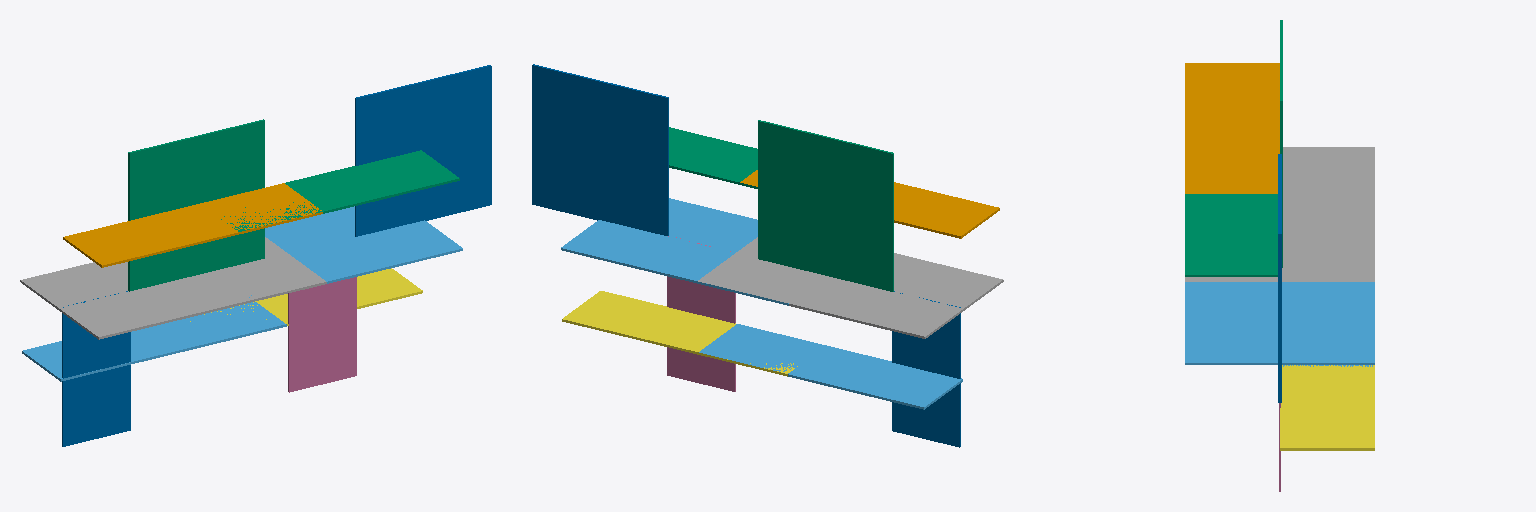
The robot description file, URDF, robot "box":
<?xml version="1.0"?>
<robot name="box">

  <link name="base_link">
    <inertial>
      <origin xyz="0 0 0" rpy="0 0 0"/>
      <mass value="0.001"/>
      <inertia ixx="0.0001" ixy="0.0" ixz="0.0" iyy="0.0001" iyz="0.0" izz="0.0001"/>
    </inertial>
  </link>

  <link name="link_right">
    <visual>   <geometry> <mesh filename="box_base.dae"/> </geometry> </visual> 
    <collision><geometry> <mesh filename="box_base.dae"/> </geometry> </collision>
    <inertial> 
      <origin xyz="0 0 0" rpy="0 0 0"/>
      <mass value="0.01"/> 
      <inertia ixx="0.1" ixy="0" ixz="0" iyy="0.1" iyz="0" izz="0.1"/> 
    </inertial>
  </link>

  <joint name="joint_base_to_right" type="fixed">
    <parent link="base_link"/>
    <child link="link_right"/>
    <origin xyz="0 0 0" rpy="0 0 0"/>
  </joint>

  <link name="link_right_up">
    <visual>   <geometry> <mesh filename="box_right_up.dae"/> </geometry> </visual>
    <collision><geometry> <mesh filename="box_right_up.dae"/> </geometry> </collision>
    <inertial> <mass value="0.01"/> <inertia ixx="0.01" ixy="0" ixz="0" iyy="0.01" iyz="0" izz="0.01"/> </inertial>
  </link>

  <joint name="joint_right_to_up" type="revolute">
    <parent link="link_right"/>
    <child link="link_right_up"/>
    <origin xyz="0 0 0.15" rpy="0 0 0"/> 
    <axis xyz="1 0 0"/> <limit lower="-6.28" upper="6.28" effort="10.0" velocity="1.0"/>
  </joint>

  <link name="link_right_down">
    <visual>   <geometry> <mesh filename="box_right_down.dae"/> </geometry> </visual>
    <collision><geometry> <mesh filename="box_right_down.dae"/> </geometry> </collision>
    <inertial> <mass value="0.01"/> <inertia ixx="0.01" ixy="0" ixz="0" iyy="0.01" iyz="0" izz="0.01"/> </inertial>
  </link>

  <joint name="joint_right_to_down" type="revolute">
    <parent link="link_right"/>
    <child link="link_right_down"/>
    <origin xyz="0 0 -0.15" rpy="0 0 0"/> 
    <axis xyz="1 0 0"/> <limit lower="-6.28" upper="6.28" effort="10.0" velocity="1.0"/>
  </joint>

  <link name="link_front">
    <visual>   <geometry> <mesh filename="box_front.dae"/> </geometry> </visual>
    <collision><geometry> <mesh filename="box_front.dae"/> </geometry> </collision>
    <inertial> <mass value="0.01"/> <inertia ixx="0.01" ixy="0" ixz="0" iyy="0.01" iyz="0" izz="0.01"/> </inertial>
  </link>

  <joint name="joint_right_to_front" type="revolute">
    <parent link="link_right"/>
    <child link="link_front"/>
    <origin xyz="0.25 -0.0001 0" rpy="0 0 1.5708"/> 
    <axis xyz="0 0 1"/> <limit lower="-6.28" upper="6.28" effort="10.0" velocity="1.0"/> 
  </joint>

  <link name="link_front_up">
    <visual>   <geometry> <mesh filename="box_front_up.dae"/> </geometry> </visual>
    <collision><geometry> <mesh filename="box_front_up.dae"/> </geometry> </collision>
    <inertial> <mass value="0.01"/> <inertia ixx="0.01" ixy="0" ixz="0" iyy="0.01" iyz="0" izz="0.01"/> </inertial>
  </link>

  <joint name="joint_front_to_up" type="revolute">
    <parent link="link_front"/>
    <child link="link_front_up"/>
    <origin xyz="0 0.1475 0.145" rpy="0 0 0"/>
    <axis xyz="0 1 0"/> <limit lower="-6.28" upper="6.28" effort="10.0" velocity="1.0"/>
  </joint>

  <link name="link_front_down">
    <visual>   <geometry> <mesh filename="box_front_down.dae"/> </geometry> </visual>
    <collision><geometry> <mesh filename="box_front_down.dae"/> </geometry> </collision>
    <inertial> <mass value="0.01"/> <inertia ixx="0.01" ixy="0" ixz="0" iyy="0.01" iyz="0" izz="0.01"/> </inertial>
  </link>

  <joint name="joint_front_to_down" type="revolute">
    <parent link="link_front"/>
    <child link="link_front_down"/>
    <origin xyz="0 0.1475 -0.145" rpy="0 0 0"/>
    <axis xyz="0 1 0"/> <limit lower="-6.28" upper="6.28" effort="10.0" velocity="1.0"/>
  </joint>


  <link name="link_left">
    <visual>   <geometry> <mesh filename="box_left.dae"/> </geometry> </visual>
    <collision><geometry> <mesh filename="box_left.dae"/> </geometry> </collision>
    <inertial> <mass value="0.01"/> <inertia ixx="0.01" ixy="0" ixz="0" iyy="0.01" iyz="0" izz="0.01"/> </inertial>
  </link>

  <joint name="joint_front_to_left" type="revolute">
    <parent link="link_front"/>
    <child link="link_left"/>
    <origin xyz="0 0.3 0" rpy="0 0 -1.5708"/> 
    <axis xyz="0 0 1"/> <limit lower="-6.28" upper="6.28" effort="10.0" velocity="1.0"/>
  </joint>

  <link name="link_left_up">
    <visual>   <geometry> <mesh filename="box_left_up.dae"/> </geometry> </visual>
    <collision><geometry> <mesh filename="box_left_up.dae"/> </geometry> </collision>
    <inertial> <mass value="0.01"/> <inertia ixx="0.01" ixy="0" ixz="0" iyy="0.01" iyz="0" izz="0.01"/> </inertial>
  </link>

  <joint name="joint_left_to_up" type="revolute">
    <parent link="link_left"/>
    <child link="link_left_up"/>
    <origin xyz="-0.2525 0 0.15" rpy="0 0 0"/>
    <axis xyz="1 0 0"/> <limit lower="-6.28" upper="6.28" effort="10.0" velocity="1.0"/>
  </joint>

  <link name="link_left_down">
    <visual>   <geometry> <mesh filename="box_left_down.dae"/> </geometry> </visual>
    <collision><geometry> <mesh filename="box_left_down.dae"/> </geometry> </collision>
    <inertial> <mass value="0.01"/> <inertia ixx="0.01" ixy="0" ixz="0" iyy="0.01" iyz="0" izz="0.01"/> </inertial>
  </link>

  <joint name="joint_left_to_down" type="revolute">
    <parent link="link_left"/>
    <child link="link_left_down"/>
    <origin xyz="-0.2525 0 -0.15" rpy="0 0 0"/>
    <axis xyz="1 0 0"/> <limit lower="-6.28" upper="6.28" effort="10.0" velocity="1.0"/>
  </joint>


  <link name="link_back">
    <visual>   <geometry> <mesh filename="box_back.dae"/> </geometry> </visual>
    <collision><geometry> <mesh filename="box_back.dae"/> </geometry> </collision>
    <inertial> <mass value="0.01"/> <inertia ixx="0.01" ixy="0" ixz="0" iyy="0.01" iyz="0" izz="0.01"/> </inertial>
  </link>

  <joint name="joint_right_to_back" type="revolute">
    <parent link="link_right"/>
    <child link="link_back"/>
    <origin xyz="-0.25 0.0025 0" rpy="0 0 1.5708"/> 
    <axis xyz="0 0 1"/> <limit lower="-6.28" upper="6.28" effort="10.0" velocity="1.0"/>
  </joint>

  <link name="link_back_up">
    <visual>   <geometry> <mesh filename="box_back_up.dae"/> </geometry> </visual>
    <collision><geometry> <mesh filename="box_back_up.dae"/> </geometry> </collision>
    <inertial> <mass value="0.01"/> <inertia ixx="0.01" ixy="0" ixz="0" iyy="0.01" iyz="0" izz="0.01"/> </inertial>
  </link>

  <joint name="joint_back_to_up" type="revolute">
    <parent link="link_back"/>
    <child link="link_back_up"/>
    <origin xyz="0 0.1475 0.145" rpy="0 0 0"/>
    <axis xyz="0 1 0"/> <limit lower="-6.28" upper="6.28" effort="10.0" velocity="1.0"/>
  </joint>

  <link name="link_back_down">
    <visual>   <geometry> <mesh filename="box_back_down.dae"/> </geometry> </visual>
    <collision><geometry> <mesh filename="box_back_down.dae"/> </geometry> </collision>
    <inertial> <mass value="0.01"/> <inertia ixx="0.01" ixy="0" ixz="0" iyy="0.01" iyz="0" izz="0.01"/> </inertial>
  </link>

  <joint name="joint_back_to_down" type="revolute">
    <parent link="link_back"/>
    <child link="link_back_down"/>
    <origin xyz="0 0.1475 -0.145" rpy="0 0 0"/>
    <axis xyz="0 1 0"/> <limit lower="-6.28" upper="6.28" effort="10.0" velocity="1.0"/>
  </joint>

</robot>

--- Render facts (derived) ---
Views: 3 orthographic renders of the robot side by side, from view 1: azimuth 30°, elevation 25°; view 2: azimuth 150°, elevation 25°; view 3: azimuth 270°, elevation 25°.
Robot: box — 13 links, 12 joints (11 revolute, 1 fixed); root link base_link; default pose: every joint at zero.
Links seen in each view (by area): view 1: link_front, link_back, link_left, link_left_up, link_right, link_back_down, link_front_down, link_right_up, link_left_down, link_right_down; view 2: link_front, link_back, link_left, link_right, link_left_down, link_right_down, link_back_down, link_front_down, link_left_up, link_right_up; view 3: link_right, link_left, link_left_up, link_right_down, link_right_up, link_front.
Link boxes in pixels (x1,y1,x2,y2): link_front: (355,65,491,236); link_back: (128,119,264,291); link_left: (20,237,326,339); link_left_up: (63,183,322,267); link_right: (249,206,462,297); link_back_down: (62,291,130,446); link_front_down: (288,277,356,392); link_right_up: (208,150,459,231); link_left_down: (22,302,286,381); link_right_down: (190,268,422,325); link_front: (532,64,668,235); link_back: (758,120,893,291); link_left: (698,237,1003,338); link_right: (561,198,788,305); link_left_down: (699,324,962,409); link_right_down: (562,291,797,376); link_back_down: (892,291,960,447); link_front_down: (667,236,735,391); link_left_up: (740,170,999,238); link_right_up: (669,127,757,188); link_right: (1185,282,1374,364); link_left: (1185,147,1374,281); link_left_up: (1185,63,1279,193); link_right_down: (1280,365,1374,450); link_right_up: (1185,194,1277,276); link_front: (1278,154,1281,402).
Size in the robot's own frame: 0.955 by 0.3001 by 0.5875 metres.
12 mesh visuals loaded from 12 distinct referenced files (12 Collada DAE).
